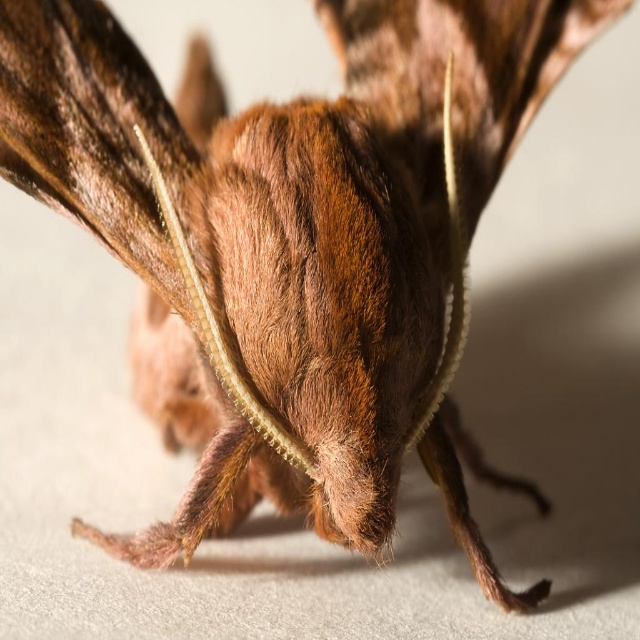Moths and butterflies: (0, 0, 640, 618)
